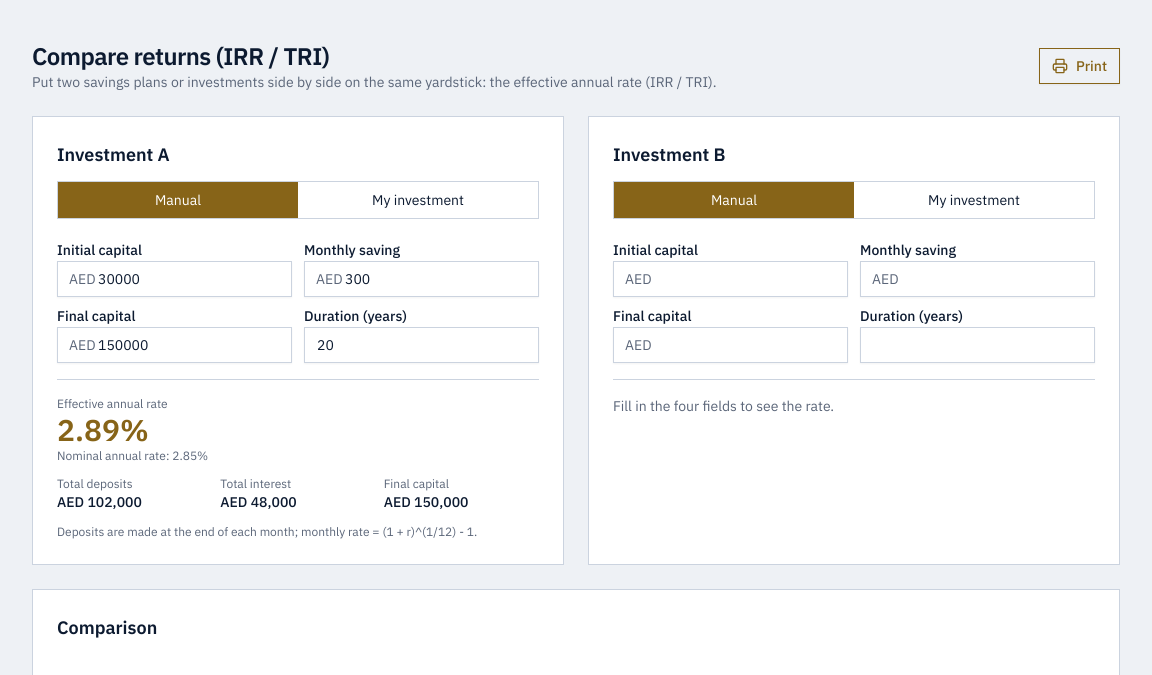
Test case: IrrCompare: holdings › labels a fully sold position as closed rather than excluded
Step 1. Click the radio button with test id "irr-b-source-holding" → (974, 200), box [928, 191, 1020, 209]
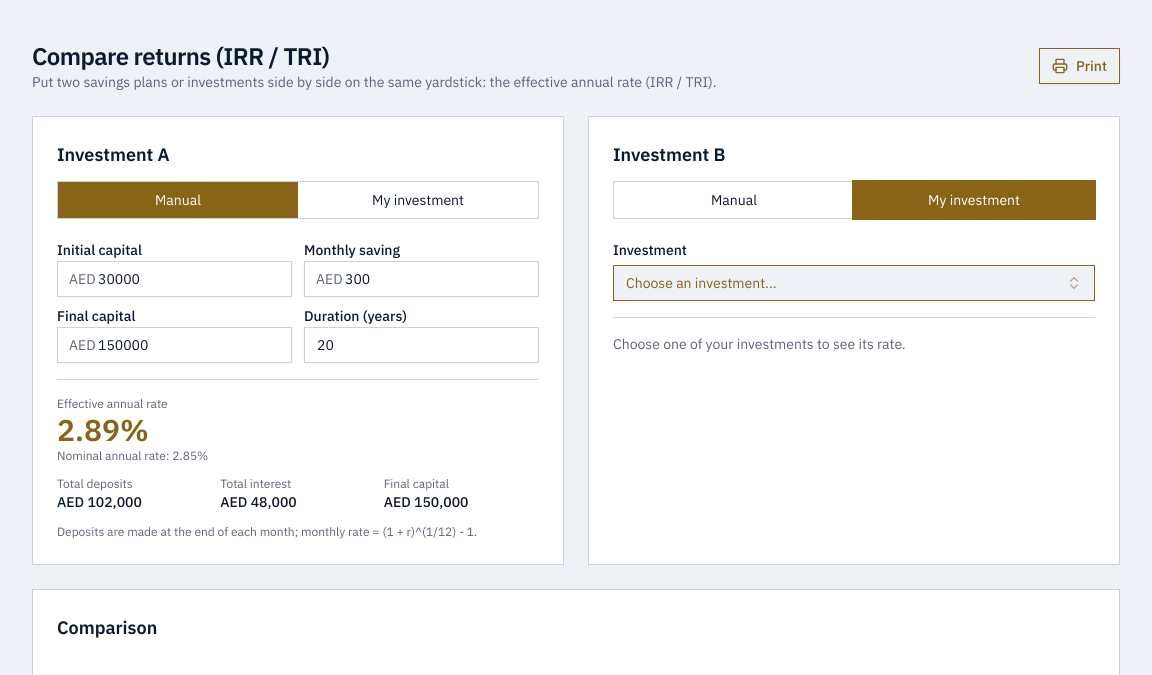
Step 2. Click the dropdown with test id "irr-b-holding" → (701, 283), box [613, 265, 1095, 301]
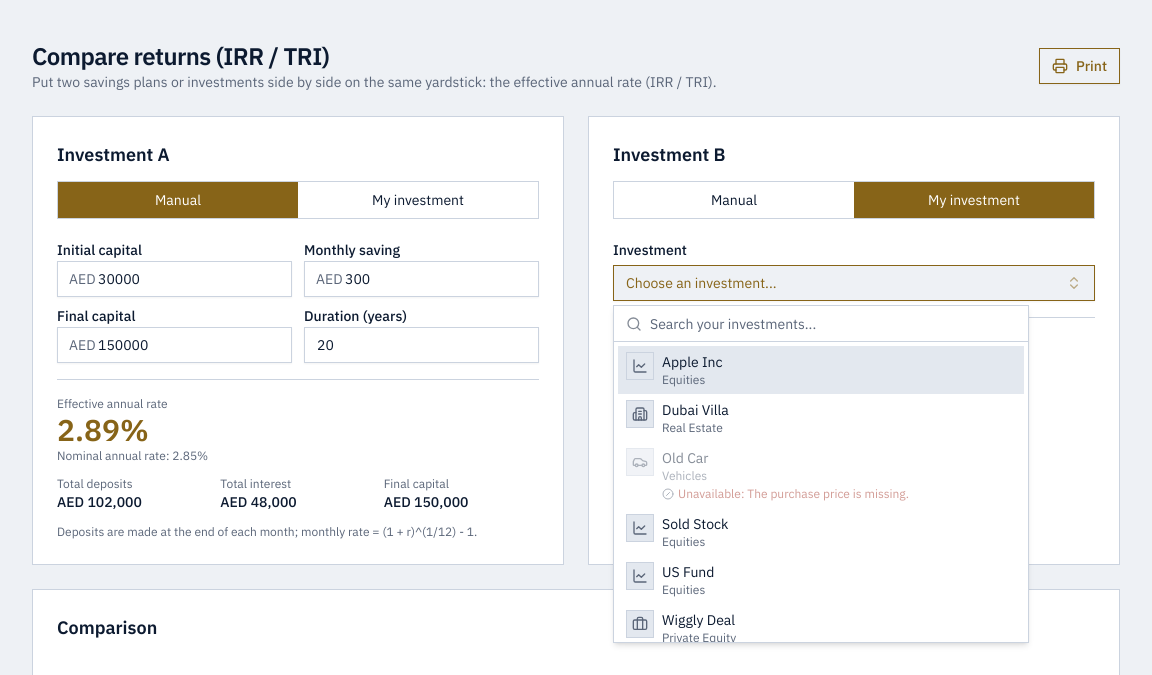
Step 3. Click the option "Sold Stock Equities" → (677, 532), box [626, 514, 728, 549]
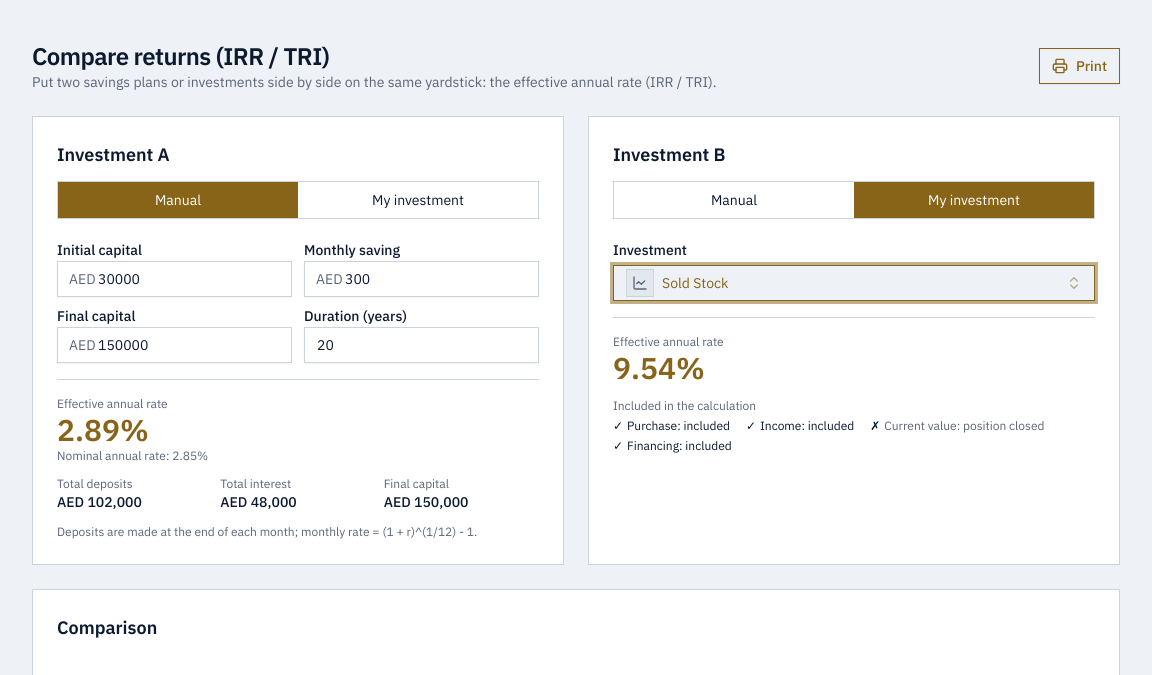
Now the list item with test id "irr-b-inc-value" shows "position closed", box [963, 418, 1044, 433]
